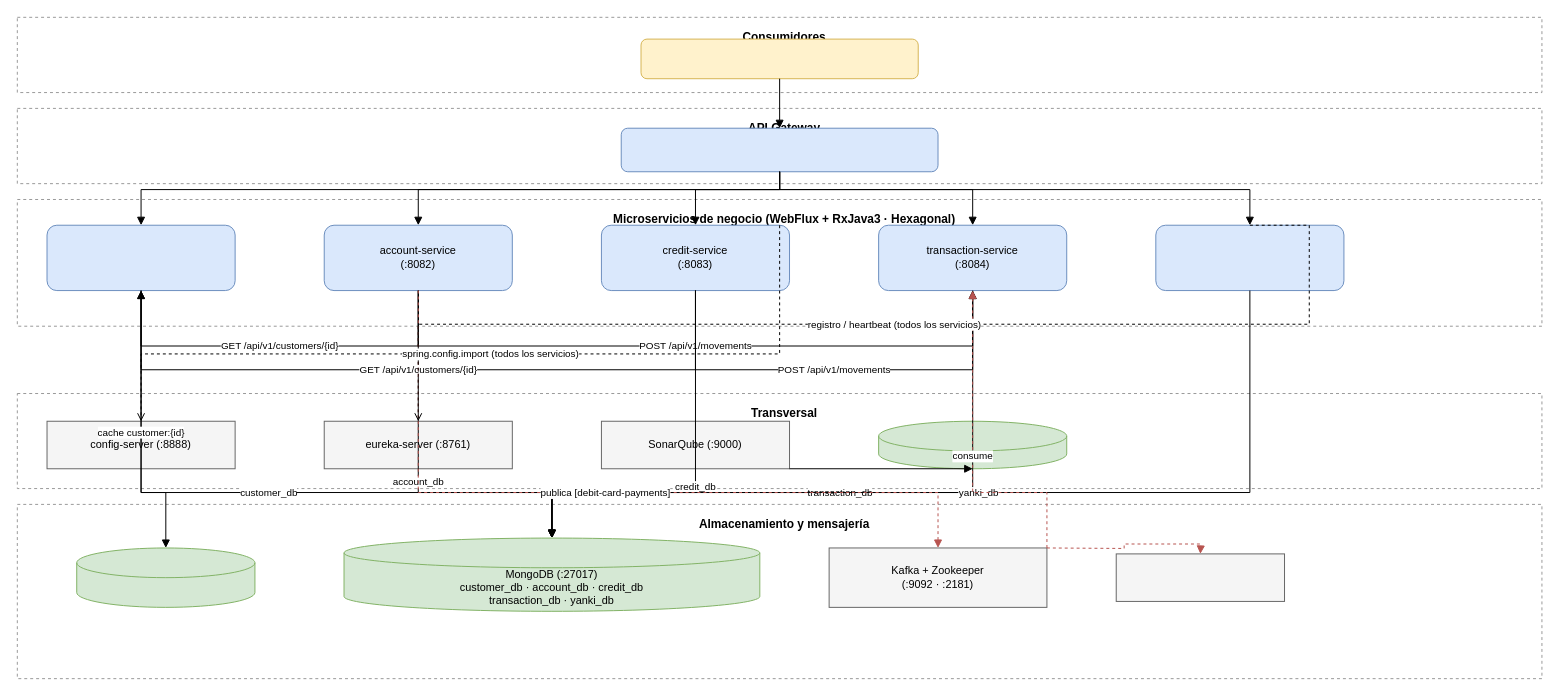
Some shapes in this 1559 by 696 pixel diagram are drawn without their labels. Here are the shapes that lost their labels. From the top down, the centre of each, then its label:
At point 779,58: "Postman / Swagger / Frontend".
At point 779,149: "gateway-service API Gateway (:8080)".
At point 140,257: "customer-service (:8081)".
At point 1249,257: "yanki-service (:8085)".
At point 972,444: "SonarQube-DB (PostgreSQL)".
At point 165,577: "Redis (:6379) solo customer-service".
At point 1200,577: "kafka-ui (:8089)".
